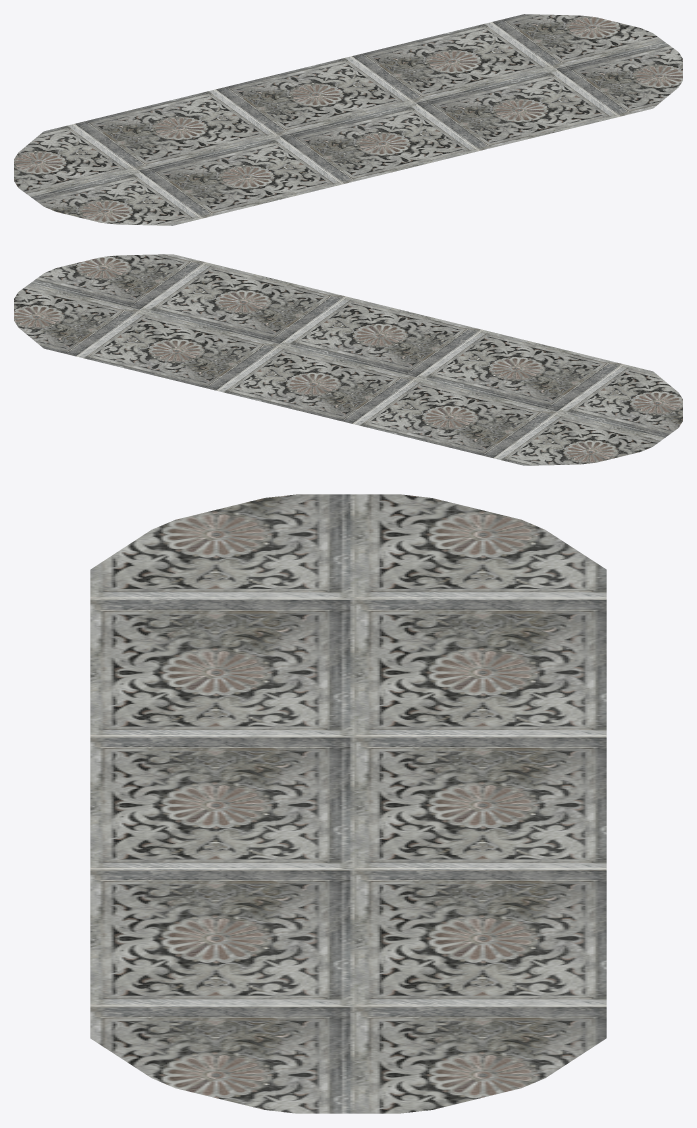
Rendered from SM_ThroneRoom_A.FBX.
3 renders of one model, top to bottom at view 1: azimuth 30°, elevation 25°; view 2: azimuth 150°, elevation 25°; view 3: azimuth 270°, elevation 25°, orthographic. The views are drawn at different scales.
Visible parts, largest first — view 1: SM_ThroneRoom_A; view 2: SM_ThroneRoom_A; view 3: SM_ThroneRoom_A.
Boxes of the visible parts, x1=… form: SM_ThroneRoom_A: x1=14, y1=14, x2=682, y2=225; SM_ThroneRoom_A: x1=14, y1=254, x2=682, y2=465; SM_ThroneRoom_A: x1=90, y1=494, x2=606, y2=1113.
Size of what is drawn, in the model's own units: 4734 by 1667 by 57.51.
